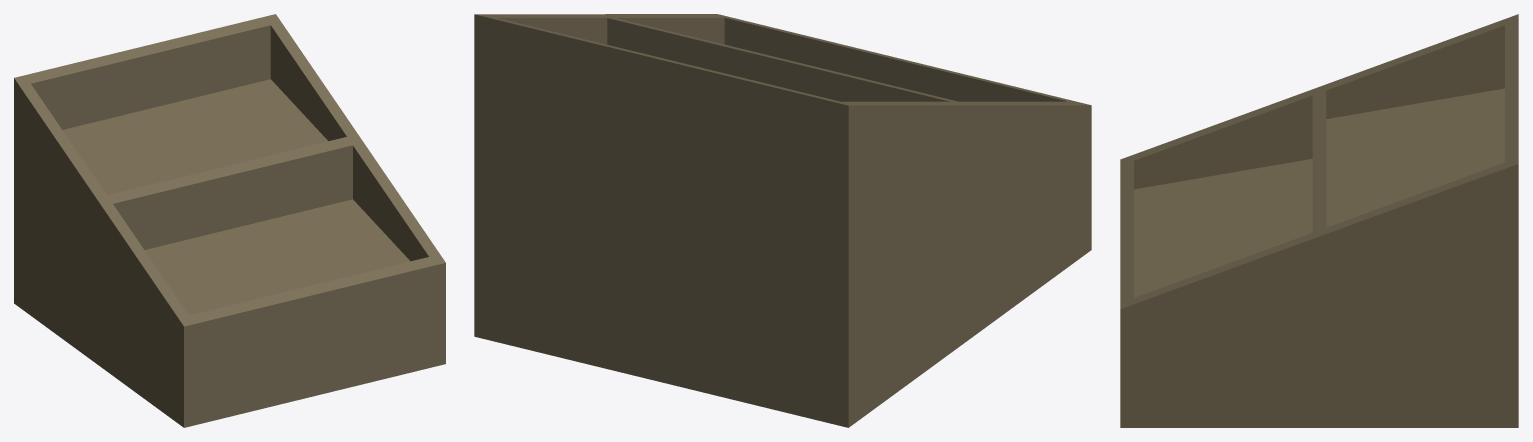
File: Item_Display_001.glb
The picture shows the model from 3 angles, left to right: view 1: azimuth 30°, elevation 25°; view 2: azimuth 150°, elevation 25°; view 3: azimuth 270°, elevation 25°; orthographic projection. The views are drawn at different scales.
Parts seen in each view (by area): view 1: Item_Display.001; view 2: Item_Display.001; view 3: Item_Display.001.
Part boxes in pixels (<box>): Item_Display.001: <box>14,14,445,427</box>; Item_Display.001: <box>474,14,1091,427</box>; Item_Display.001: <box>1120,14,1518,427</box>.
Size of the model in its own units: 0.8 by 0.6585 by 0.9.
